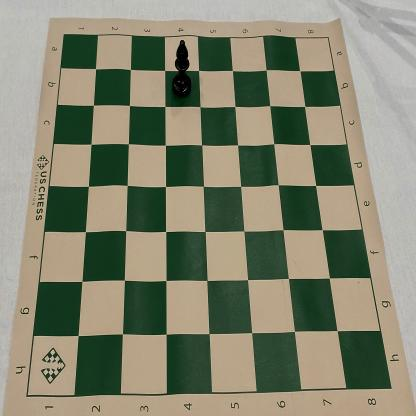black-bishop: (172, 39, 193, 99)
